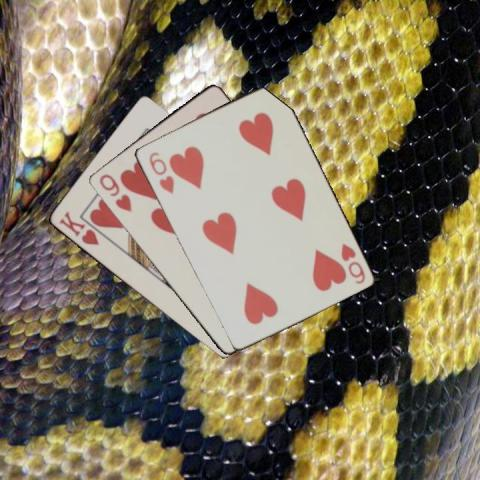6h: (146, 149, 176, 195), (337, 240, 367, 285)
9h: (95, 171, 133, 214)
Kh: (55, 208, 100, 247)
